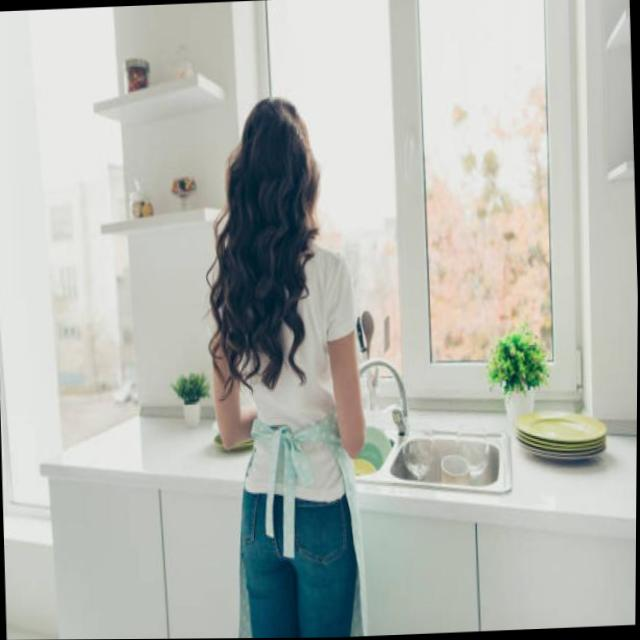no helmet: (213, 67, 365, 288)
